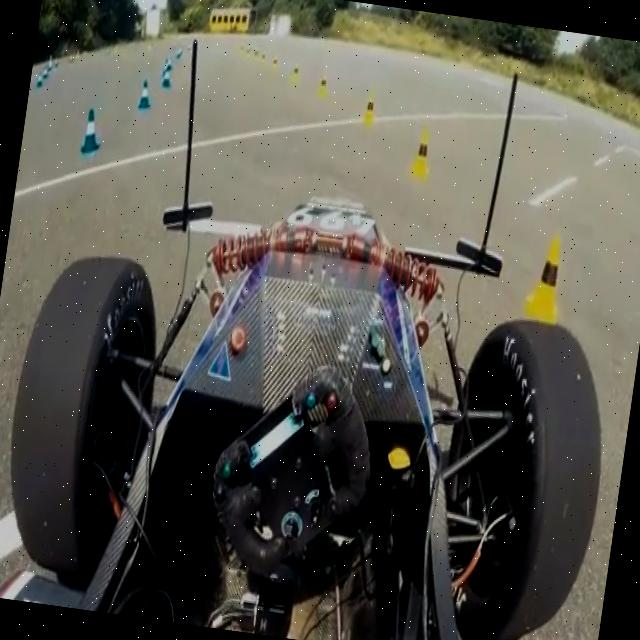blue_cone: (80, 108, 106, 156), (137, 77, 155, 111)
yellow_cone: (524, 236, 570, 328), (408, 128, 437, 180)
